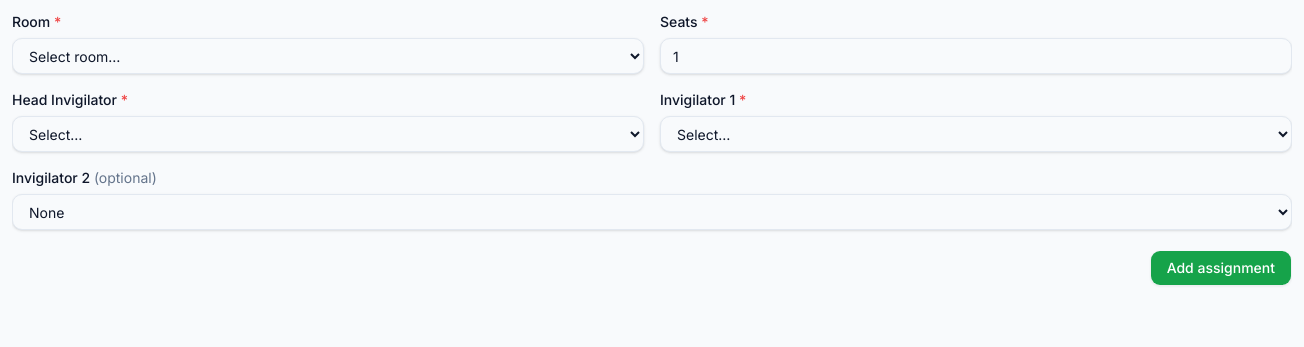
Test: AssignmentForm › form validation › shows error when head invigilator is not selected on submit
Select "101 (cap 50)" in the dropdown labelled "Room *" at x=328, y=56, box top-left (12, 38), bottom-right (644, 74)
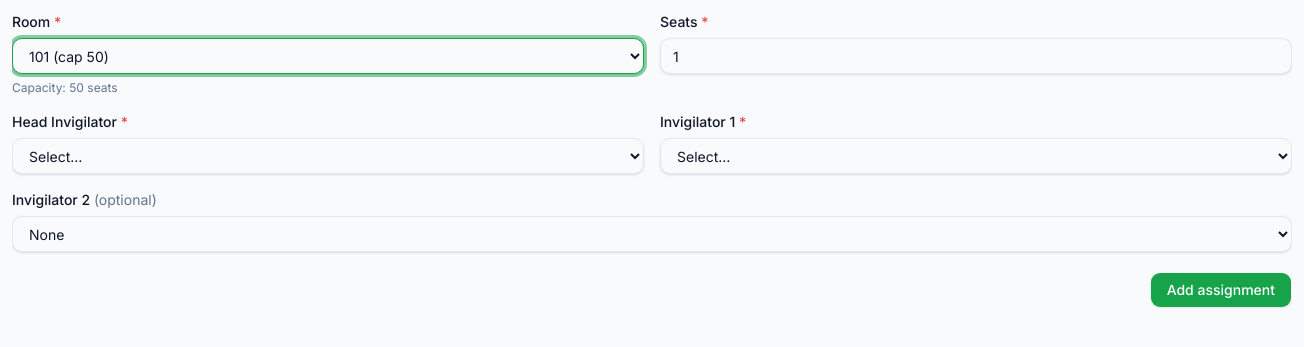
Click the button "Add assignment".
click(1221, 290)  # box top-left (1150, 272), bottom-right (1292, 308)
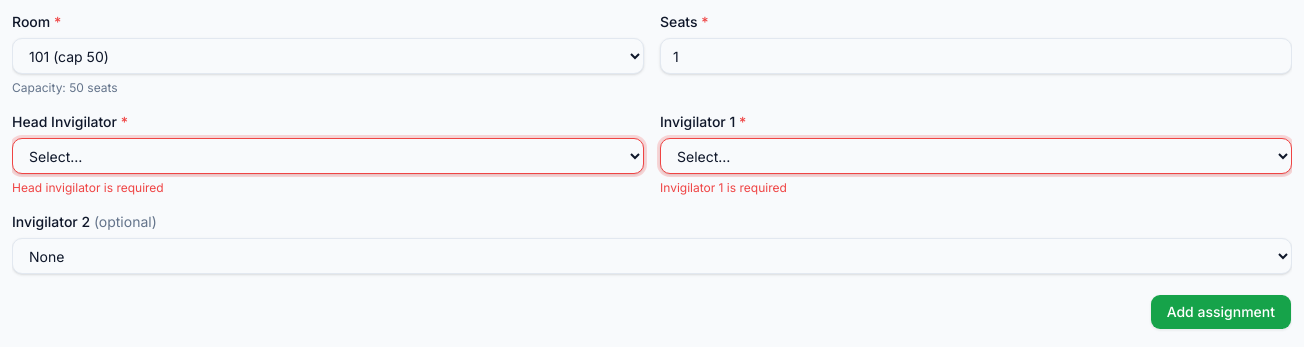
Now the text "Head invigilator is required" is shown, box top-left (12, 180), bottom-right (164, 195)
